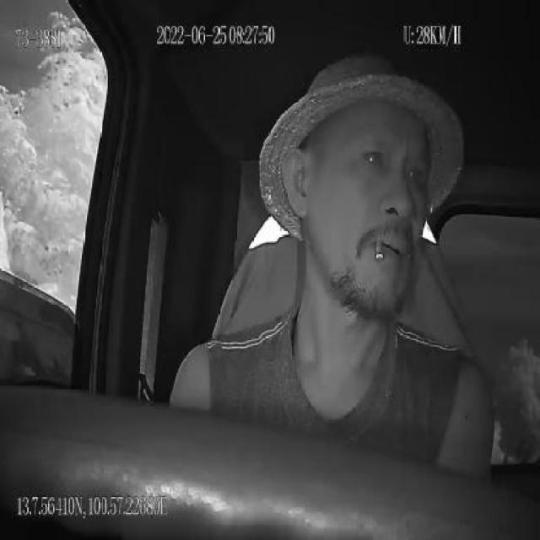smoking: (374, 235, 387, 266)
